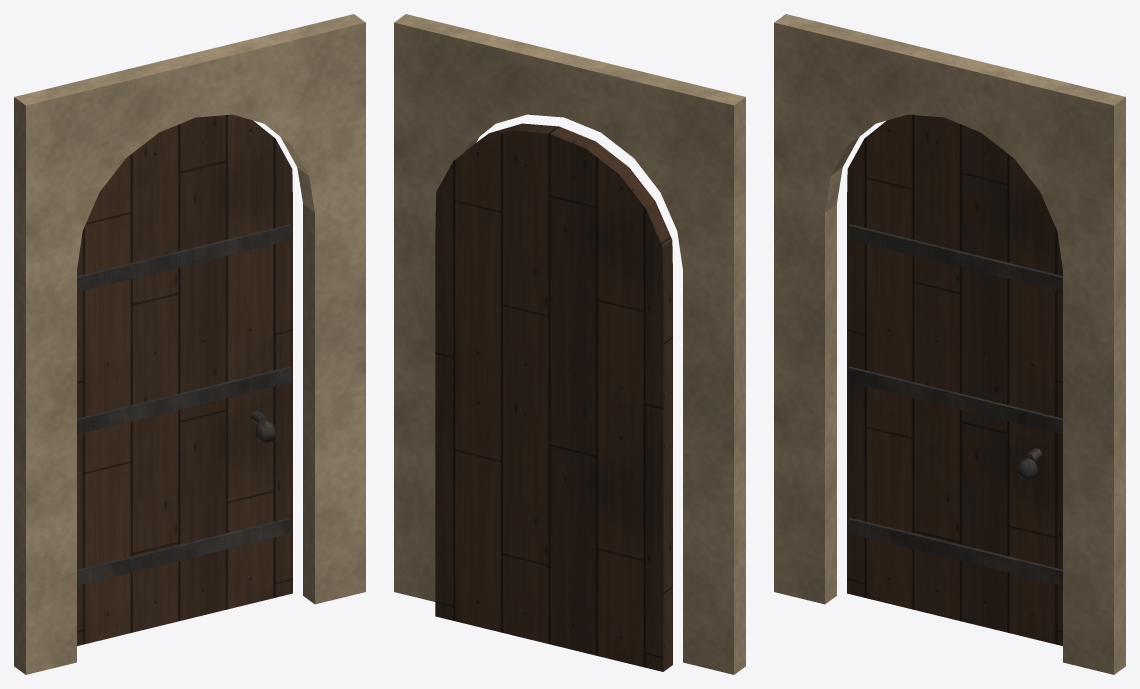
File: door_wood.gltf
3 renders of one model, left to right at view 1: azimuth 30°, elevation 25°; view 2: azimuth 150°, elevation 25°; view 3: azimuth 330°, elevation 25°, orthographic.
Parts seen in each view (by area): view 1: INT_door, door_wood_frame; view 2: INT_door, door_wood_frame; view 3: INT_door, door_wood_frame.
Part boxes in pixels (box(x1,y1,x2,y2)): INT_door: box(77, 114, 292, 645); door_wood_frame: box(14, 14, 365, 674); INT_door: box(435, 123, 672, 671); door_wood_frame: box(394, 14, 745, 674); INT_door: box(847, 114, 1062, 645); door_wood_frame: box(774, 14, 1125, 674).
Size of the model in its own units: 2 by 3.2 by 0.27.
3 materials, 3 textured.
